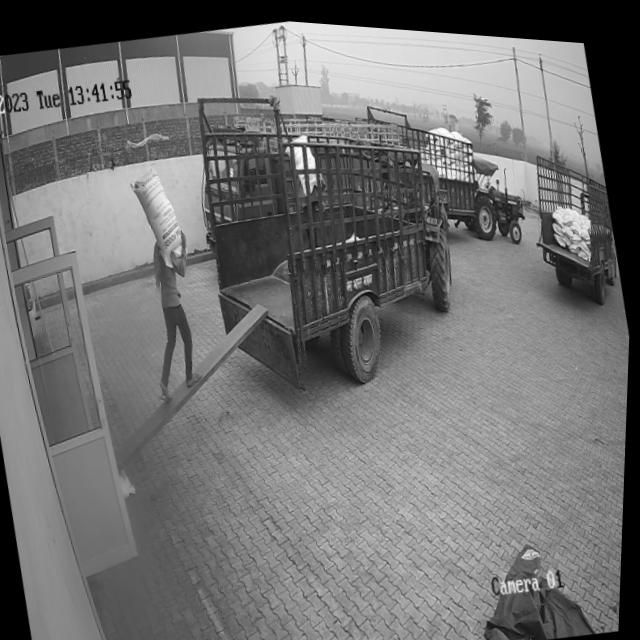sack: (125, 158, 192, 273)
